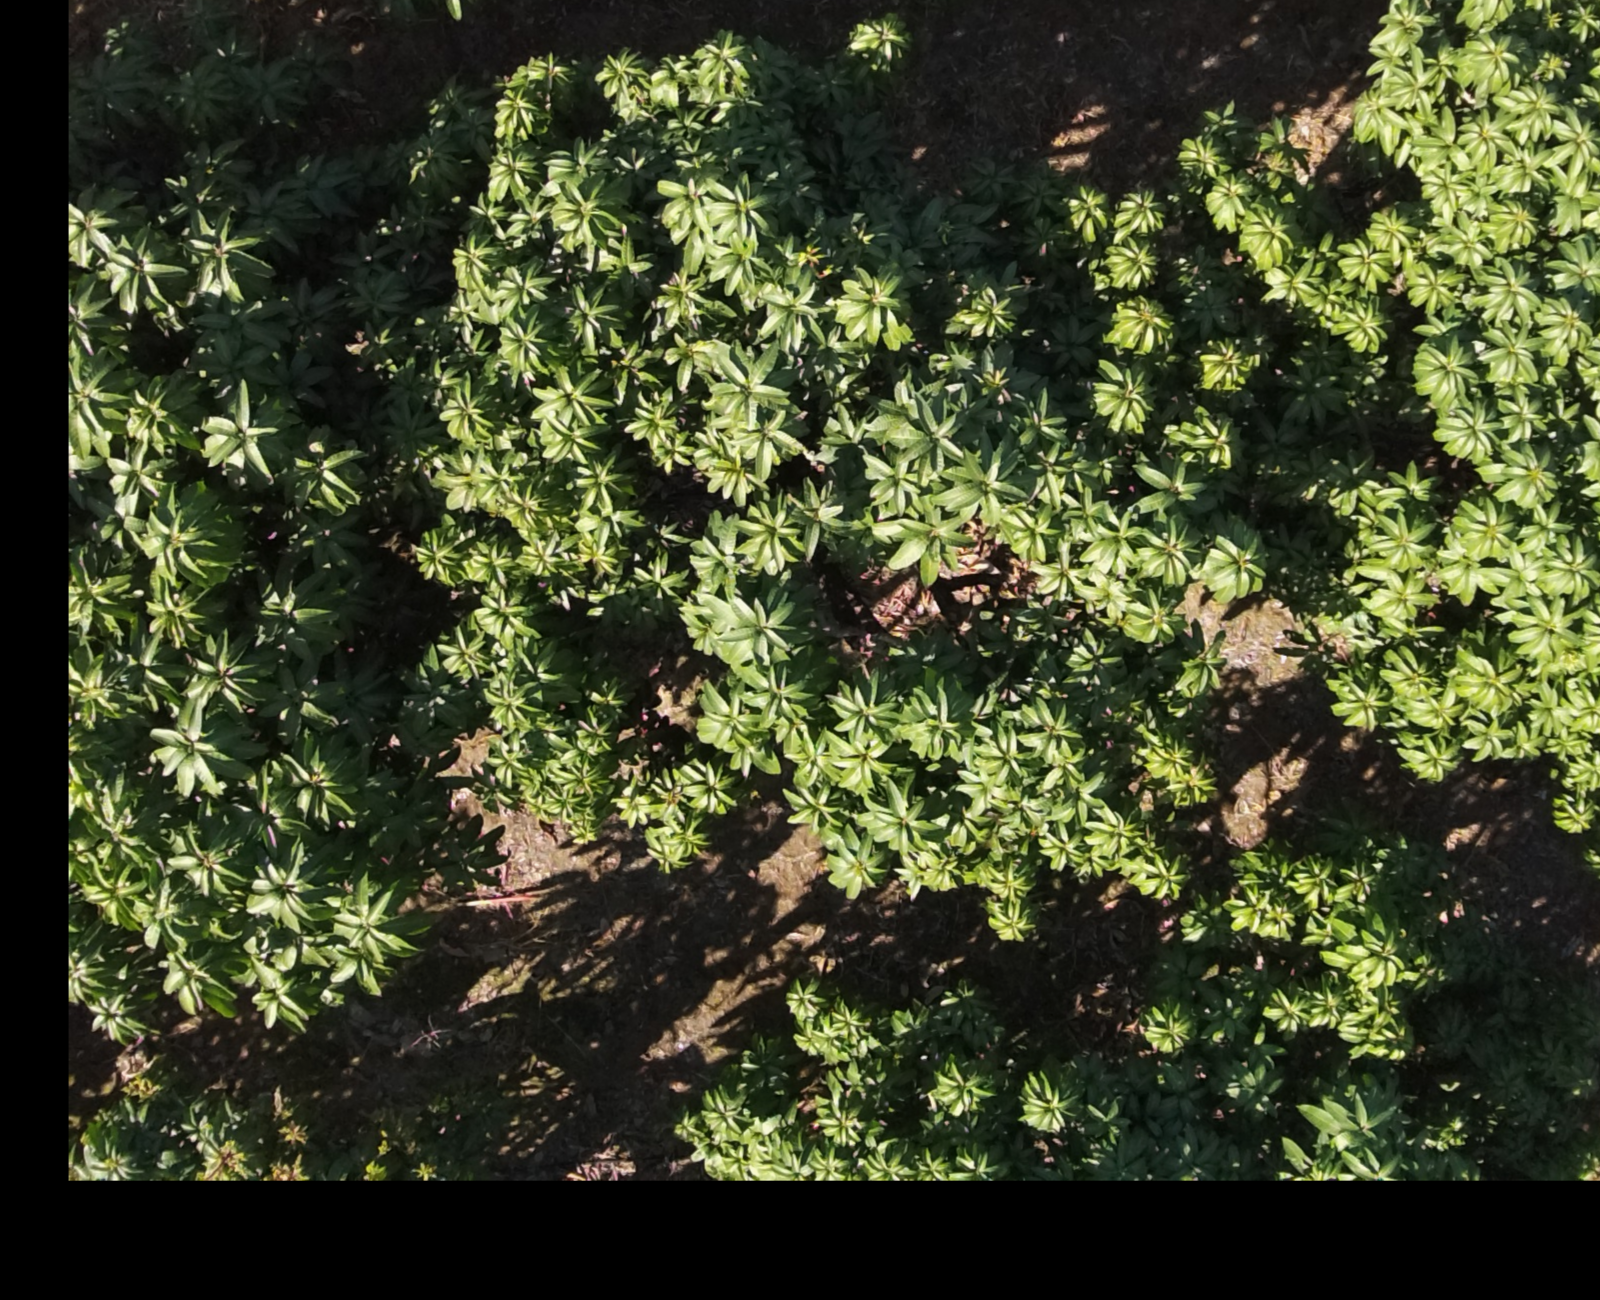flowers: (196, 1132, 249, 1181), (273, 1086, 308, 1143), (260, 1147, 310, 1181)
